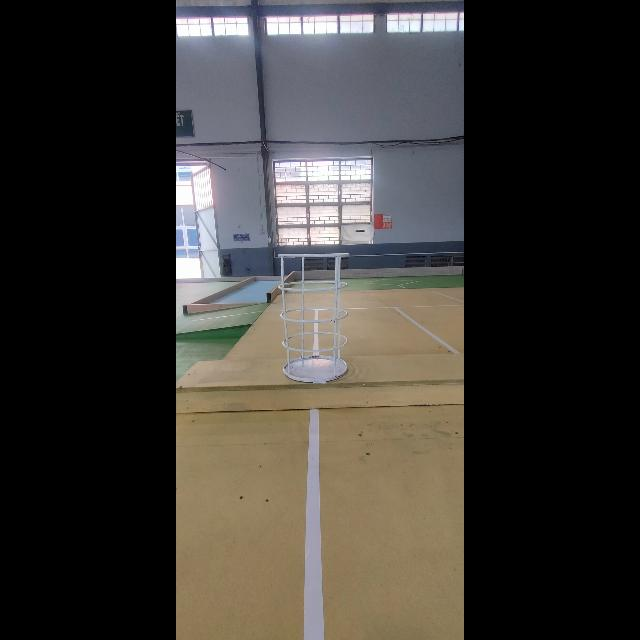S: (277, 253, 351, 385)
